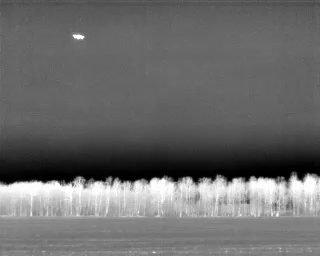DRONE: (69, 29, 88, 45)
